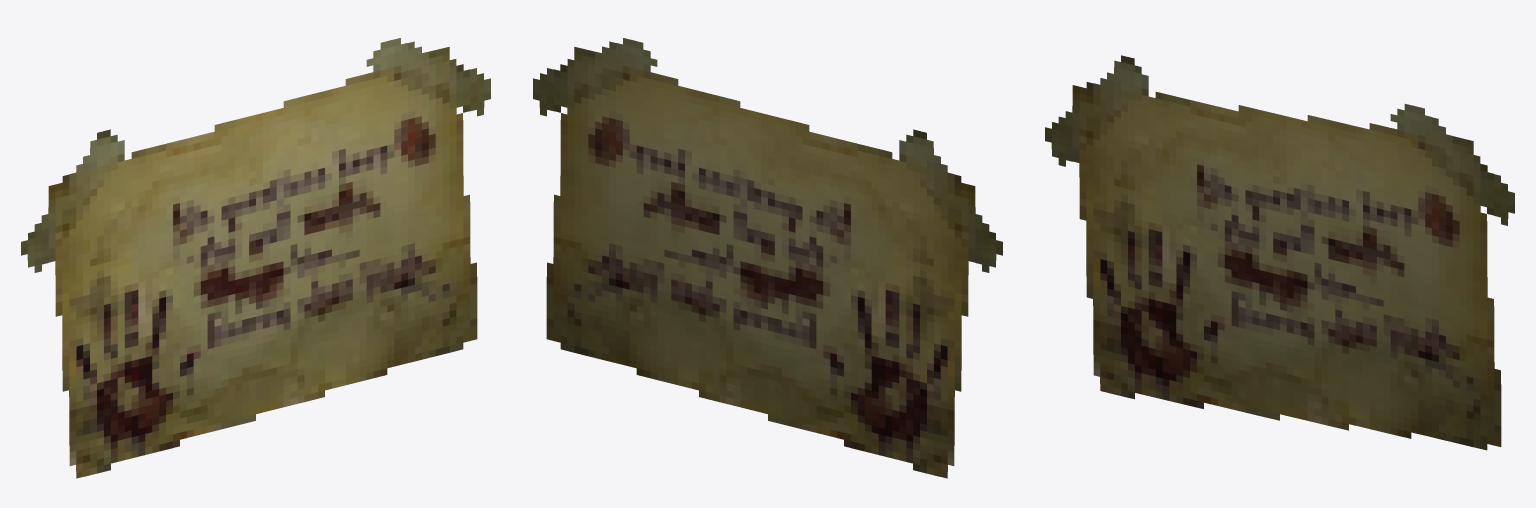
File: Bloodynote.fbx
3 views of the same model, side by side, from view 1: azimuth 30°, elevation 25°; view 2: azimuth 150°, elevation 25°; view 3: azimuth 330°, elevation 25° (orthographic).
Visible parts, largest first — view 1: pPlane1; view 2: pPlane1; view 3: pPlane1.
Part boxes in pixels (<box>): pPlane1: <box>21,38,490,478</box>; pPlane1: <box>533,38,1002,478</box>; pPlane1: <box>1045,55,1514,450</box>.
Bounding box in the file's own units: 1.4 × 1 × 3.83e-16.
Materials: 1 (1 with a texture image).
